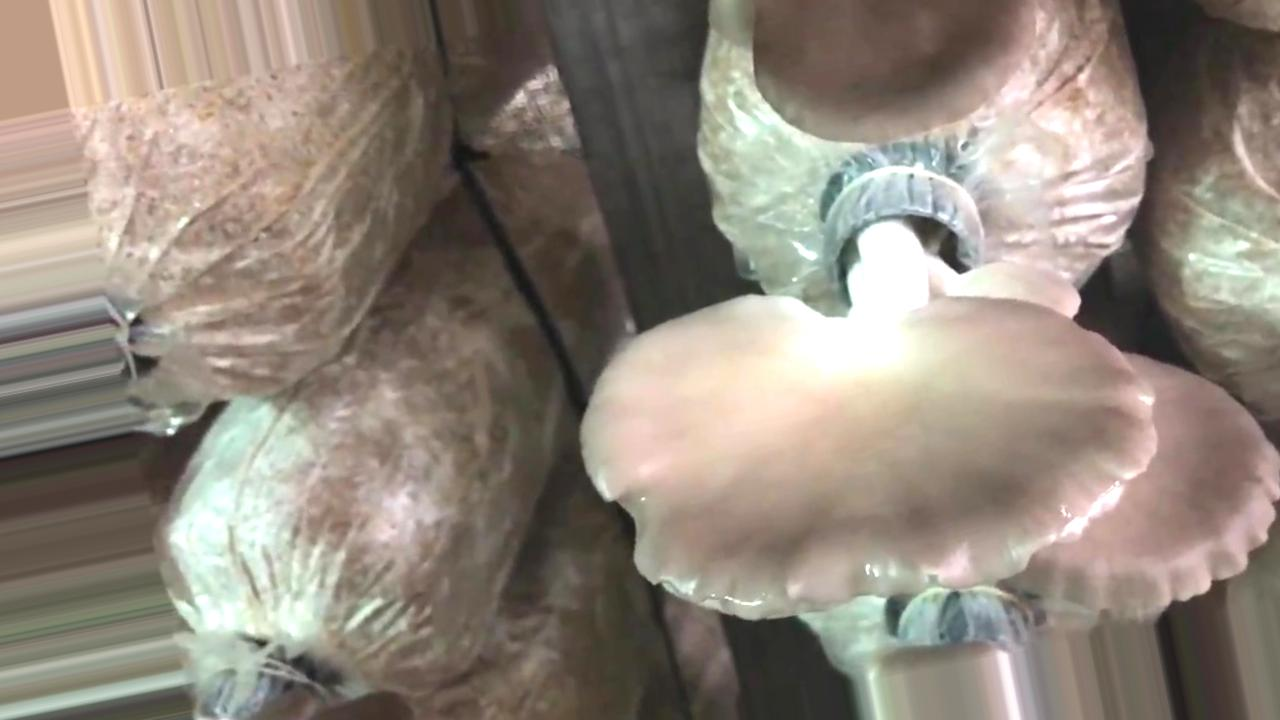nam: (580, 157, 1161, 620), (751, 1, 1041, 156)
